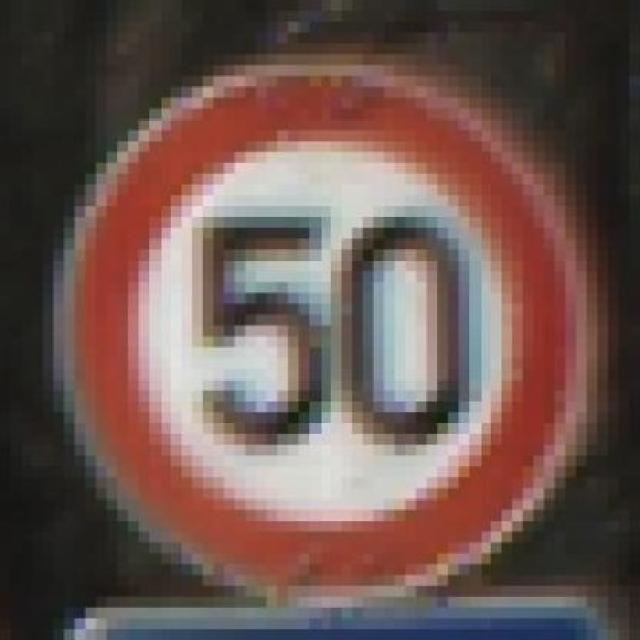forb_speed_over_50: (79, 79, 568, 593)
